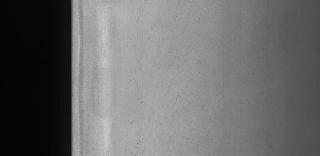silk spot: (128, 7, 220, 155)
